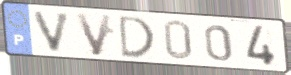0: (162, 18, 195, 62), (202, 23, 236, 62)
4: (244, 24, 278, 68)
D: (117, 13, 156, 60)
V: (31, 10, 74, 55), (73, 12, 115, 58)
